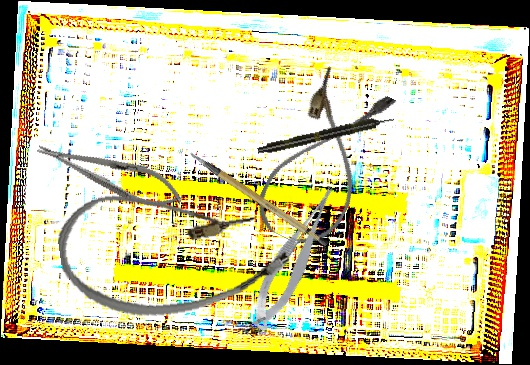Cannula: (52, 171, 295, 329), (247, 64, 402, 258)
Handpiece: (256, 113, 396, 157)
Micro Scissor: (236, 181, 355, 335)
Needle Holder: (31, 129, 189, 218)
Scalpel Handle: (187, 131, 331, 264)
